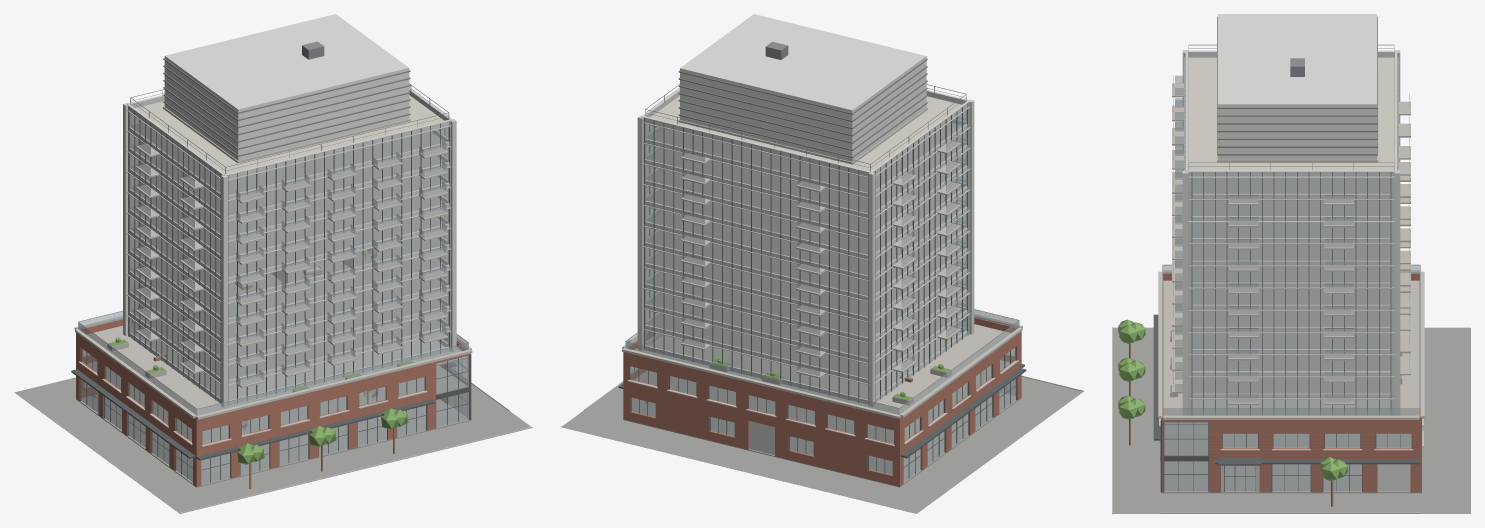
Rendered from clay-brick-podium-condo-tower-clay-v005.glb.
3 renders of one model, left to right at view 1: azimuth 30°, elevation 25°; view 2: azimuth 150°, elevation 25°; view 3: azimuth 270°, elevation 25°, orthographic. The views are drawn at different scales.
Parts seen in each view (by area): view 1: CLAY_GLASS, CLAY_FLOOR, CLAY_METAL, CLAY_SPANDREL, CLAY_FOUNDATION, CLAY_TRIM, CLAY_CONCRETE, CLAY_WALL, CLAY_PALE, CLAY_HARDWARE, CLAY_SAND, CLAY_MEMBRANE (+2 smaller); view 2: CLAY_GLASS, CLAY_FLOOR, CLAY_SPANDREL, CLAY_METAL, CLAY_WALL, CLAY_FOUNDATION, CLAY_TRIM, CLAY_PALE, CLAY_CONCRETE, CLAY_SAND, CLAY_HARDWARE, CLAY_STONE (+1 smaller); view 3: CLAY_GLASS, CLAY_FLOOR, CLAY_FOUNDATION, CLAY_METAL, CLAY_SPANDREL, CLAY_CONCRETE, CLAY_TRIM, CLAY_PALE, CLAY_WALL, CLAY_MEMBRANE, CLAY_SAND, CLAY_HARDWARE (+3 smaller).
Part boxes in pixels (x1,y1,x2,y2): CLAY_GLASS: (78,113,469,484); CLAY_FLOOR: (87,126,467,443); CLAY_METAL: (164,14,409,160); CLAY_SPANDREL: (128,90,450,404); CLAY_FOUNDATION: (14,370,531,513); CLAY_TRIM: (71,106,471,482); CLAY_CONCRETE: (107,106,448,392); CLAY_WALL: (76,319,470,486); CLAY_PALE: (123,88,456,407); CLAY_HARDWARE: (78,41,468,409); CLAY_SAND: (86,323,466,415); CLAY_MEMBRANE: (135,95,444,173); CLAY_GLASS: (625,110,1019,481); CLAY_FLOOR: (634,122,1009,443); CLAY_SPANDREL: (643,91,969,404); CLAY_METAL: (680,14,926,161); CLAY_WALL: (623,317,1021,486); CLAY_FOUNDATION: (561,377,1082,513); CLAY_TRIM: (618,103,1026,478); CLAY_PALE: (631,88,974,455); CLAY_CONCRETE: (678,107,964,405); CLAY_SAND: (634,321,1010,414); CLAY_HARDWARE: (625,41,1019,408); CLAY_STONE: (584,314,1083,446); CLAY_GLASS: (1162,75,1420,490); CLAY_FLOOR: (1163,178,1419,455); CLAY_FOUNDATION: (1113,327,1470,513); CLAY_METAL: (1218,14,1376,159); CLAY_SPANDREL: (1188,52,1394,415); CLAY_CONCRETE: (1170,69,1410,404); CLAY_TRIM: (1153,53,1419,492); CLAY_PALE: (1182,50,1409,491); CLAY_WALL: (1161,273,1421,492); CLAY_MEMBRANE: (1188,57,1394,170); CLAY_SAND: (1163,280,1419,423); CLAY_HARDWARE: (1162,16,1420,408).
Size of the model in its own units: 54 by 51.5 by 44.
